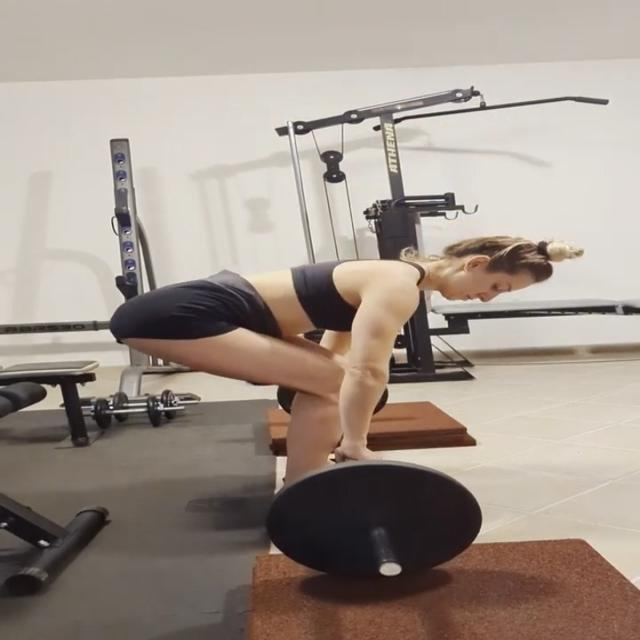barbell: (255, 461, 487, 590)
